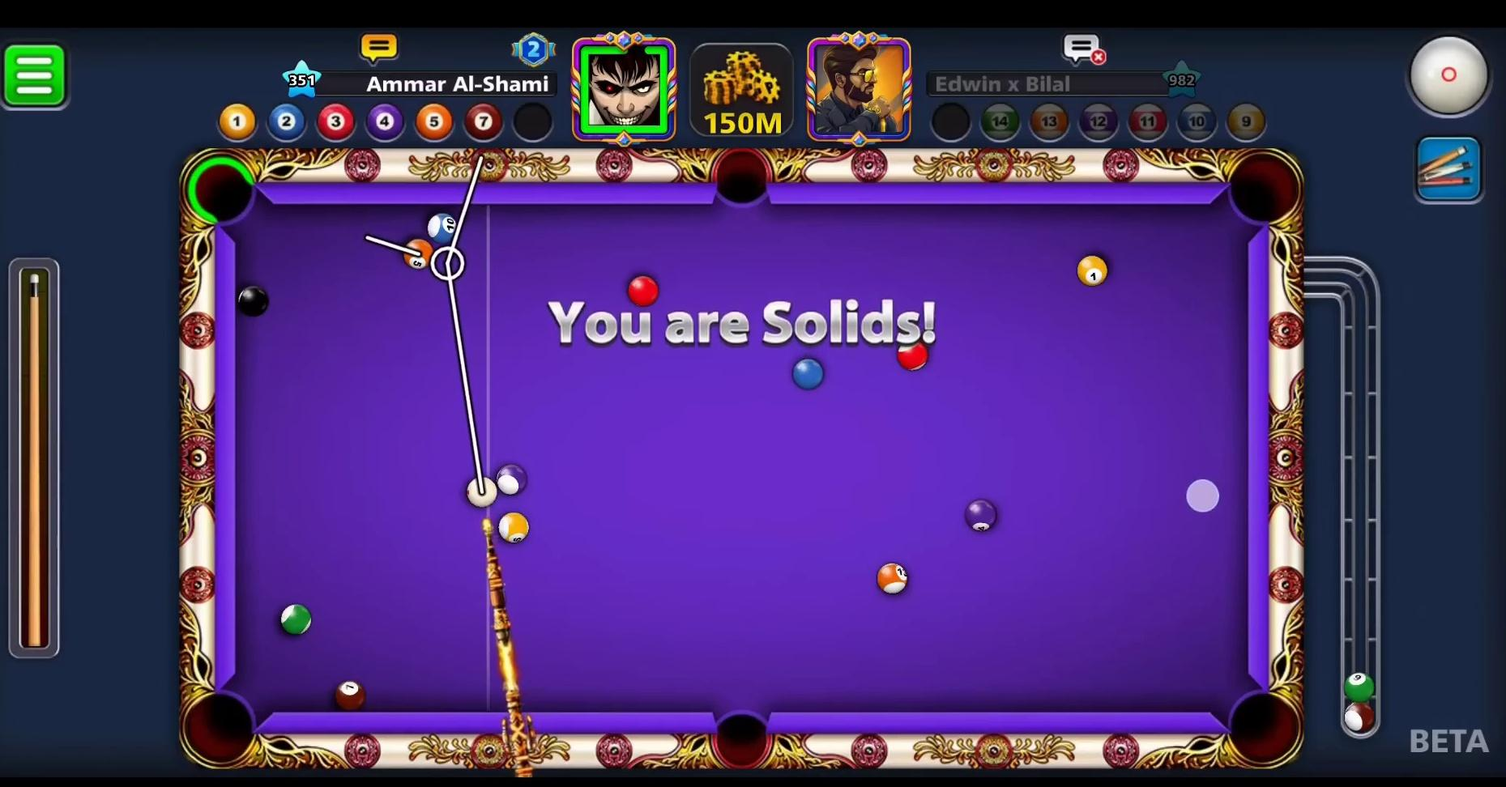Ball: (872, 551, 913, 602), (418, 208, 463, 254), (227, 280, 277, 321), (959, 494, 1003, 537), (785, 354, 830, 395), (1070, 253, 1117, 292), (325, 675, 373, 713), (493, 459, 534, 503), (893, 331, 933, 376), (273, 598, 317, 638), (490, 509, 535, 547), (620, 273, 663, 311), (399, 235, 438, 272)
Force: (0, 259, 65, 659)
Guideline: (357, 146, 490, 495)
Hole: (175, 139, 270, 237), (1214, 682, 1308, 776), (173, 682, 269, 774), (1219, 141, 1304, 236), (702, 694, 783, 778), (700, 142, 783, 222)
Play_Area: (227, 199, 1247, 716)
Spin: (1402, 28, 1503, 130)
White: (457, 473, 498, 515)
